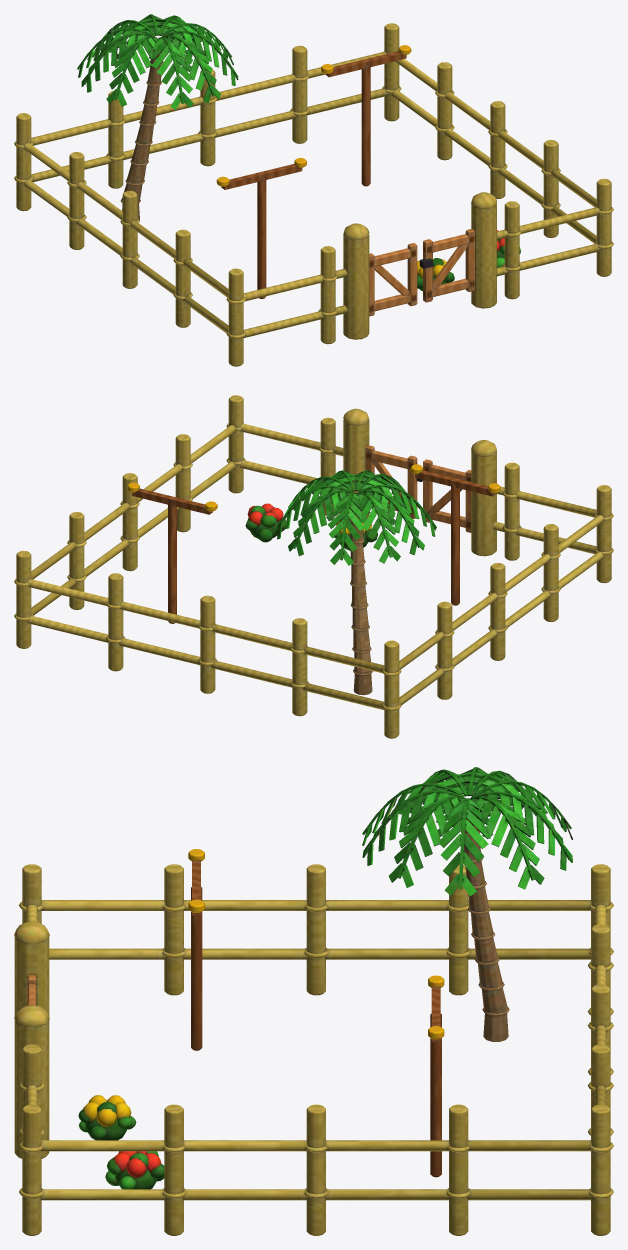
The model's file is parrot_aviary.glb.
3 views of the same model, one above another, from view 1: azimuth 30°, elevation 25°; view 2: azimuth 150°, elevation 25°; view 3: azimuth 270°, elevation 25° (orthographic). The views are drawn at different scales.
Parts seen in each view (by area): view 1: parrot_aviary, gate1, gate0; view 2: parrot_aviary, gate0, gate1; view 3: parrot_aviary.
Part boxes in pixels (x1,y1,x2,y2): parrot_aviary: (14,14,613,366); gate1: (419,229,474,302); gate0: (369,243,417,316); parrot_aviary: (14,395,613,738); gate0: (423,459,471,532); gate1: (365,445,422,518); parrot_aviary: (14,767,613,1235).
Bounding box in the file's own units: 1.99 × 0.972 × 2.
Materials: 1 (1 with a texture image).
